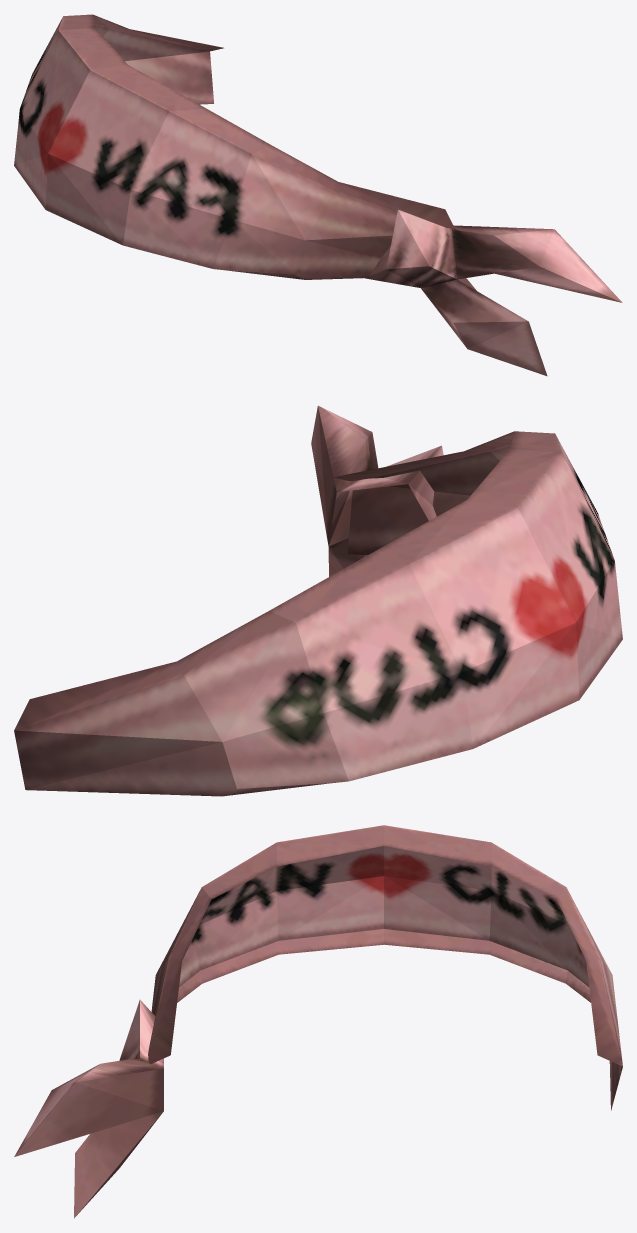
Rendered from Wolf_fcBandana.obj.
3 renders of one model, top to bottom at view 1: azimuth 30°, elevation 25°; view 2: azimuth 150°, elevation 25°; view 3: azimuth 270°, elevation 25°, orthographic. The views are drawn at different scales.
Parts seen in each view (by area): view 1: Wolf_fcBandana_tri; view 2: Wolf_fcBandana_tri; view 3: Wolf_fcBandana_tri.
Boxes of the visible parts, <box> form: Wolf_fcBandana_tri: <box>14,14,622,376</box>; Wolf_fcBandana_tri: <box>14,405,622,796</box>; Wolf_fcBandana_tri: <box>14,825,622,1218</box>.
Bounding box in the file's own units: 0.2239 × 0.1449 × 0.3157.
1 material, 1 textured.
